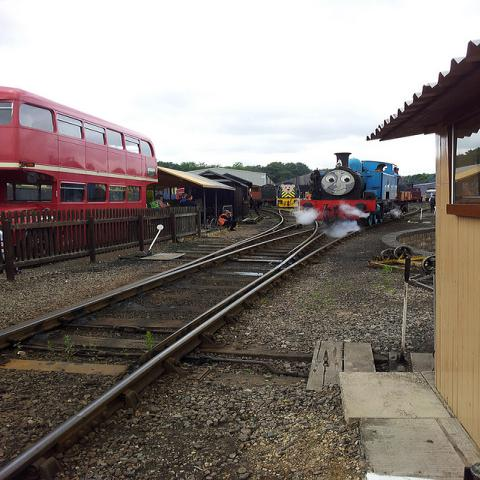bus: (3, 86, 158, 212)
